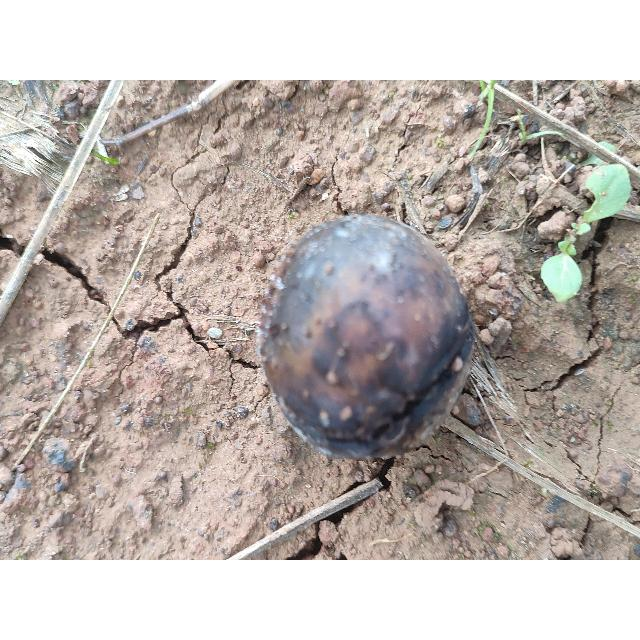damaged: (257, 214, 474, 459)
